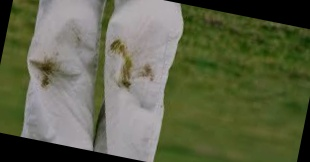earth: (35, 55, 61, 90), (119, 58, 138, 88), (137, 62, 157, 82), (109, 38, 129, 55)
